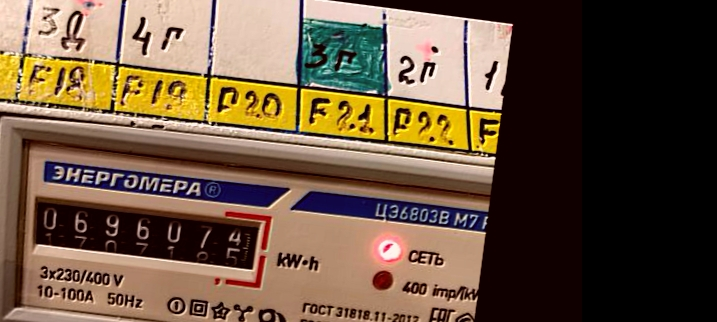0: (40, 204, 61, 231), (165, 218, 184, 245)
4: (227, 224, 244, 247)
5: (225, 246, 241, 267)
6: (71, 207, 92, 234), (134, 214, 154, 242)
7: (196, 222, 215, 250)
9: (102, 211, 123, 239)
screen: (22, 183, 276, 291)
